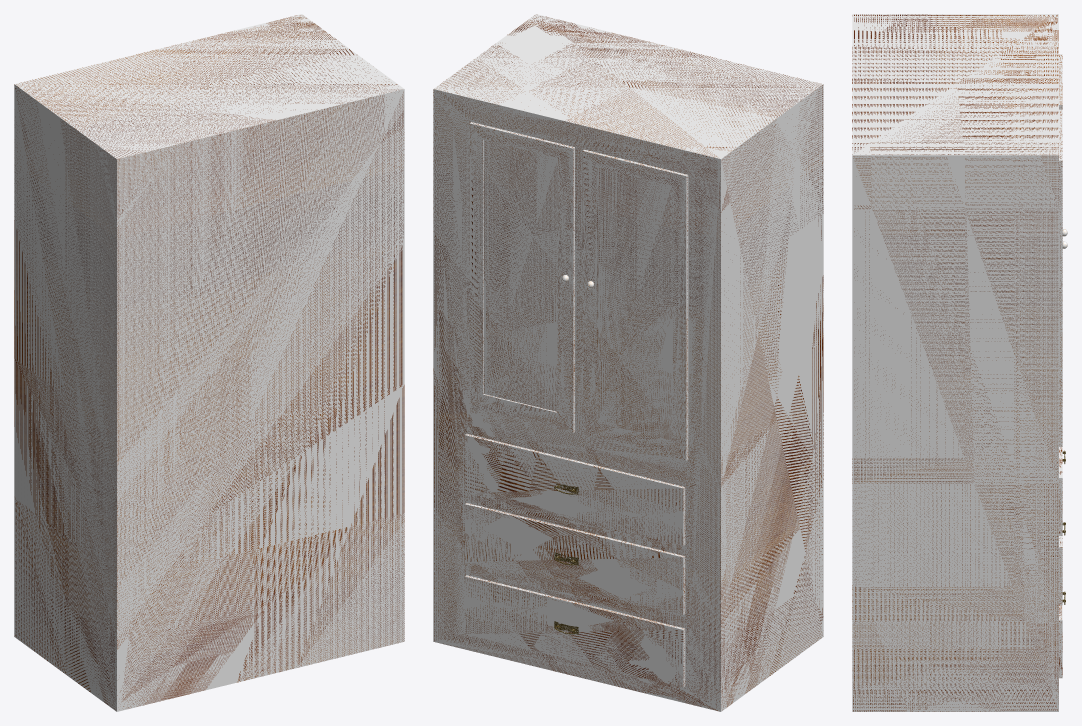
3 renders of one model, left to right at view 1: azimuth 30°, elevation 25°; view 2: azimuth 150°, elevation 25°; view 3: azimuth 270°, elevation 25°, orthographic.
Visible parts, largest first — view 1: mesh6_mesh6-geometry; view 2: mesh6_mesh6-geometry, mesh1_mesh1-geometry; view 3: mesh6_mesh6-geometry.
Part boxes in pixels (x1,y1,x2,y2): mesh6_mesh6-geometry: (14, 14, 404, 711); mesh6_mesh6-geometry: (433, 14, 823, 711); mesh1_mesh1-geometry: (554, 482, 578, 634); mesh6_mesh6-geometry: (852, 14, 1062, 711).
Bounding box in the file's own units: 0.4571 × 0.8393 × 0.2942.
